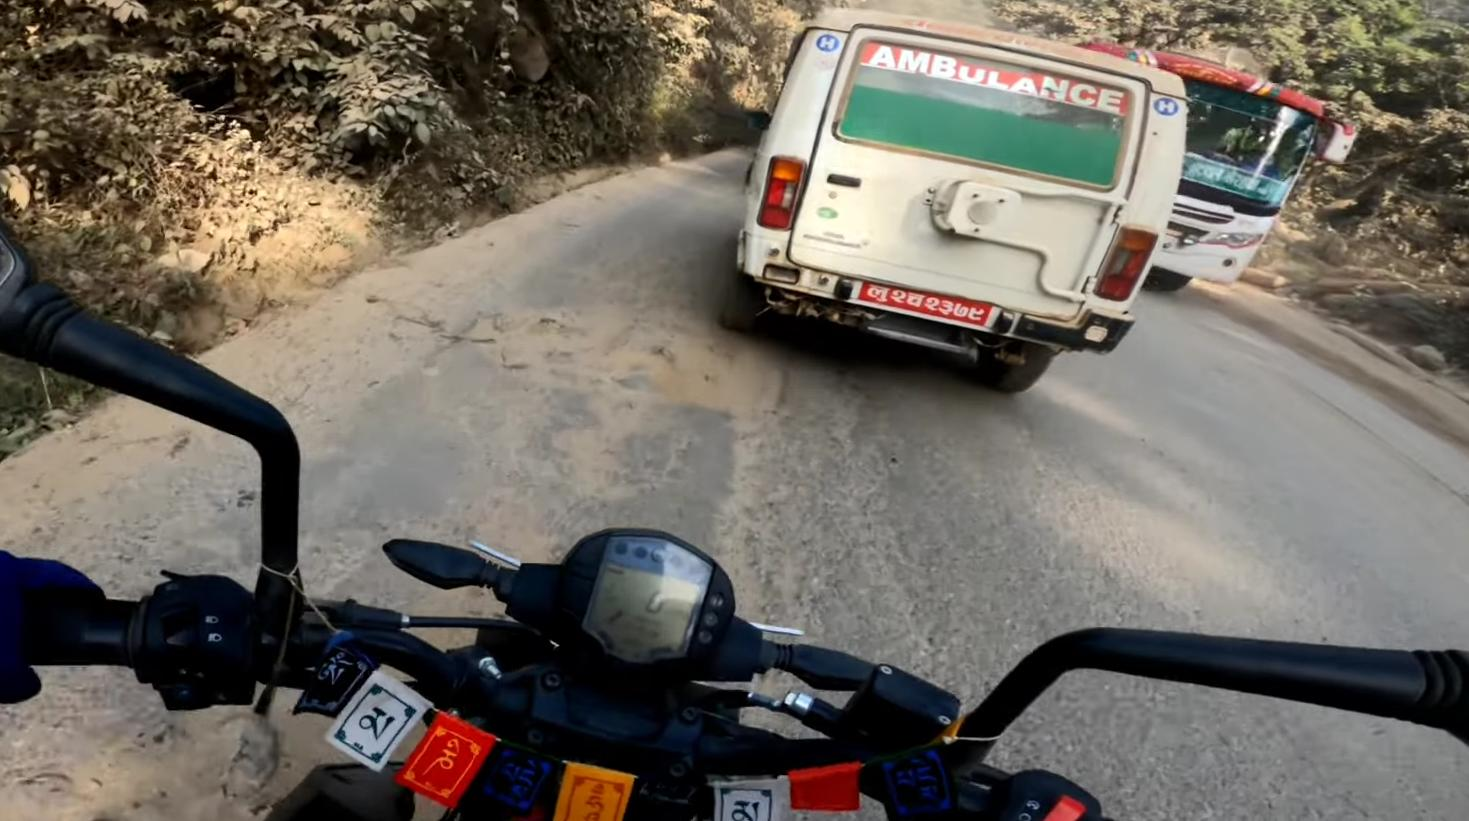ambulance: (715, 11, 1205, 419)
bus: (1119, 30, 1356, 328)
